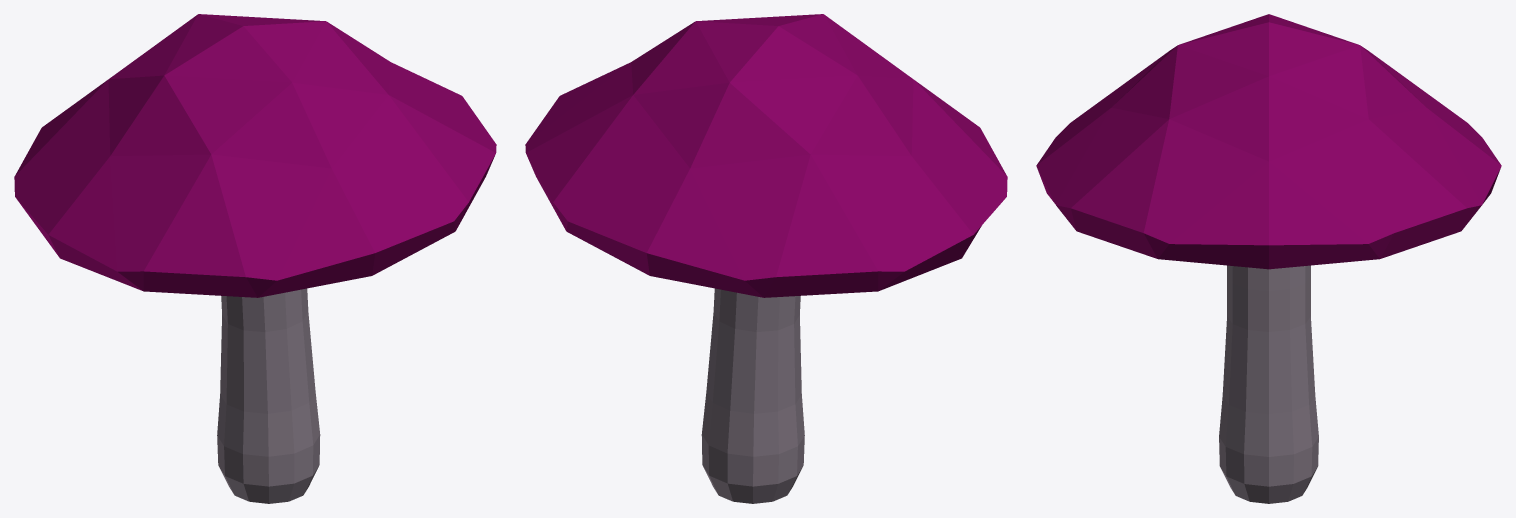
The model's file is low_poly_mushroom_02.glb.
The picture shows the model from 3 angles, left to right: view 1: azimuth 30°, elevation 25°; view 2: azimuth 150°, elevation 25°; view 3: azimuth 270°, elevation 25°; orthographic projection. The views are drawn at different scales.
Parts seen in each view (by area): view 1: Mushroom_002_Material #39_0, Mushroom_002_Material #52_0; view 2: Mushroom_002_Material #39_0, Mushroom_002_Material #52_0; view 3: Mushroom_002_Material #39_0, Mushroom_002_Material #52_0.
Part boxes in pixels (x1,y1,x2,y2): Mushroom_002_Material #39_0: (14, 14, 496, 297); Mushroom_002_Material #52_0: (217, 288, 320, 503); Mushroom_002_Material #39_0: (525, 14, 1007, 297); Mushroom_002_Material #52_0: (701, 288, 804, 503); Mushroom_002_Material #39_0: (1036, 14, 1501, 269); Mushroom_002_Material #52_0: (1219, 265, 1318, 503).
Bounding box in the file's own units: 10.02 × 10.81 × 10.06.
